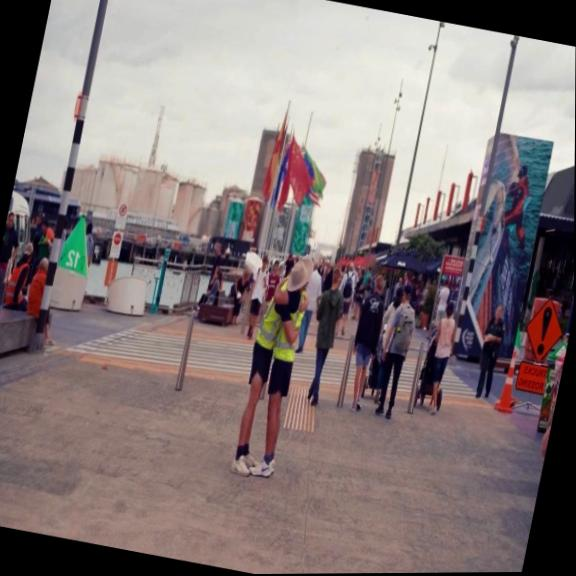safety_vest: (271, 286, 309, 365), (252, 276, 291, 350)
